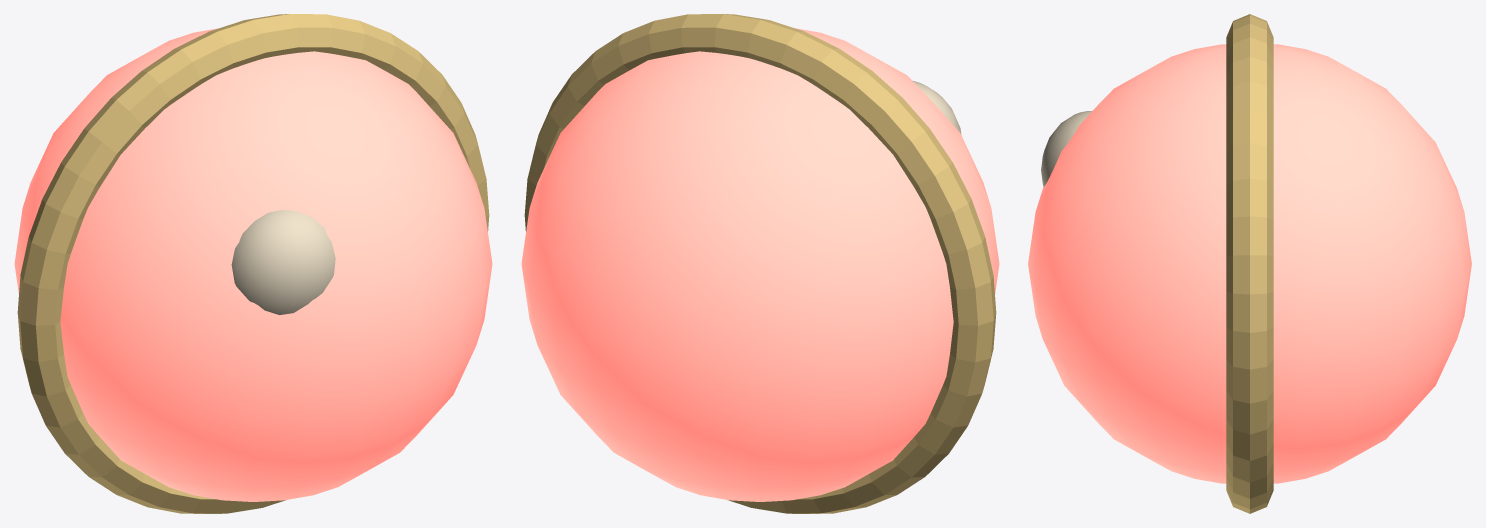
Rendered from enemy_projectile.glb.
The picture shows the model from 3 angles, left to right: view 1: azimuth 30°, elevation 25°; view 2: azimuth 150°, elevation 25°; view 3: azimuth 270°, elevation 25°; orthographic projection. The views are drawn at different scales.
Parts seen in each view (by area): view 1: Enemy_round_orb, Enemy_danger_band, Enemy_core; view 2: Enemy_round_orb, Enemy_danger_band, Enemy_core; view 3: Enemy_round_orb, Enemy_danger_band, Enemy_core.
Part boxes in pixels (box(x1,y1,x2,y2)): Enemy_round_orb: box(14, 28, 492, 501); Enemy_danger_band: box(17, 14, 489, 513); Enemy_core: box(231, 210, 335, 314); Enemy_round_orb: box(521, 28, 999, 501); Enemy_danger_band: box(524, 14, 996, 513); Enemy_core: box(912, 80, 961, 134); Enemy_round_orb: box(1028, 44, 1471, 483); Enemy_danger_band: box(1226, 14, 1273, 513); Enemy_core: box(1041, 111, 1091, 186).
Size of the model in its own units: 0.462 by 0.462 by 0.41.
